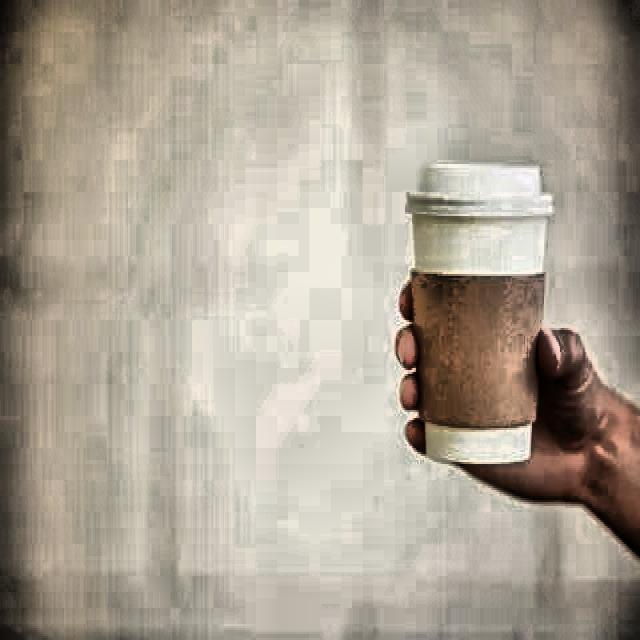Cup: (393, 168, 555, 475)
